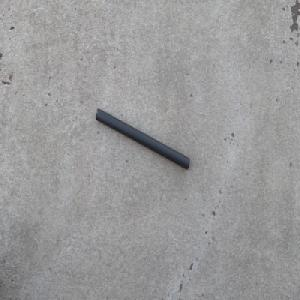LuggagePart: (95, 106, 190, 171)
